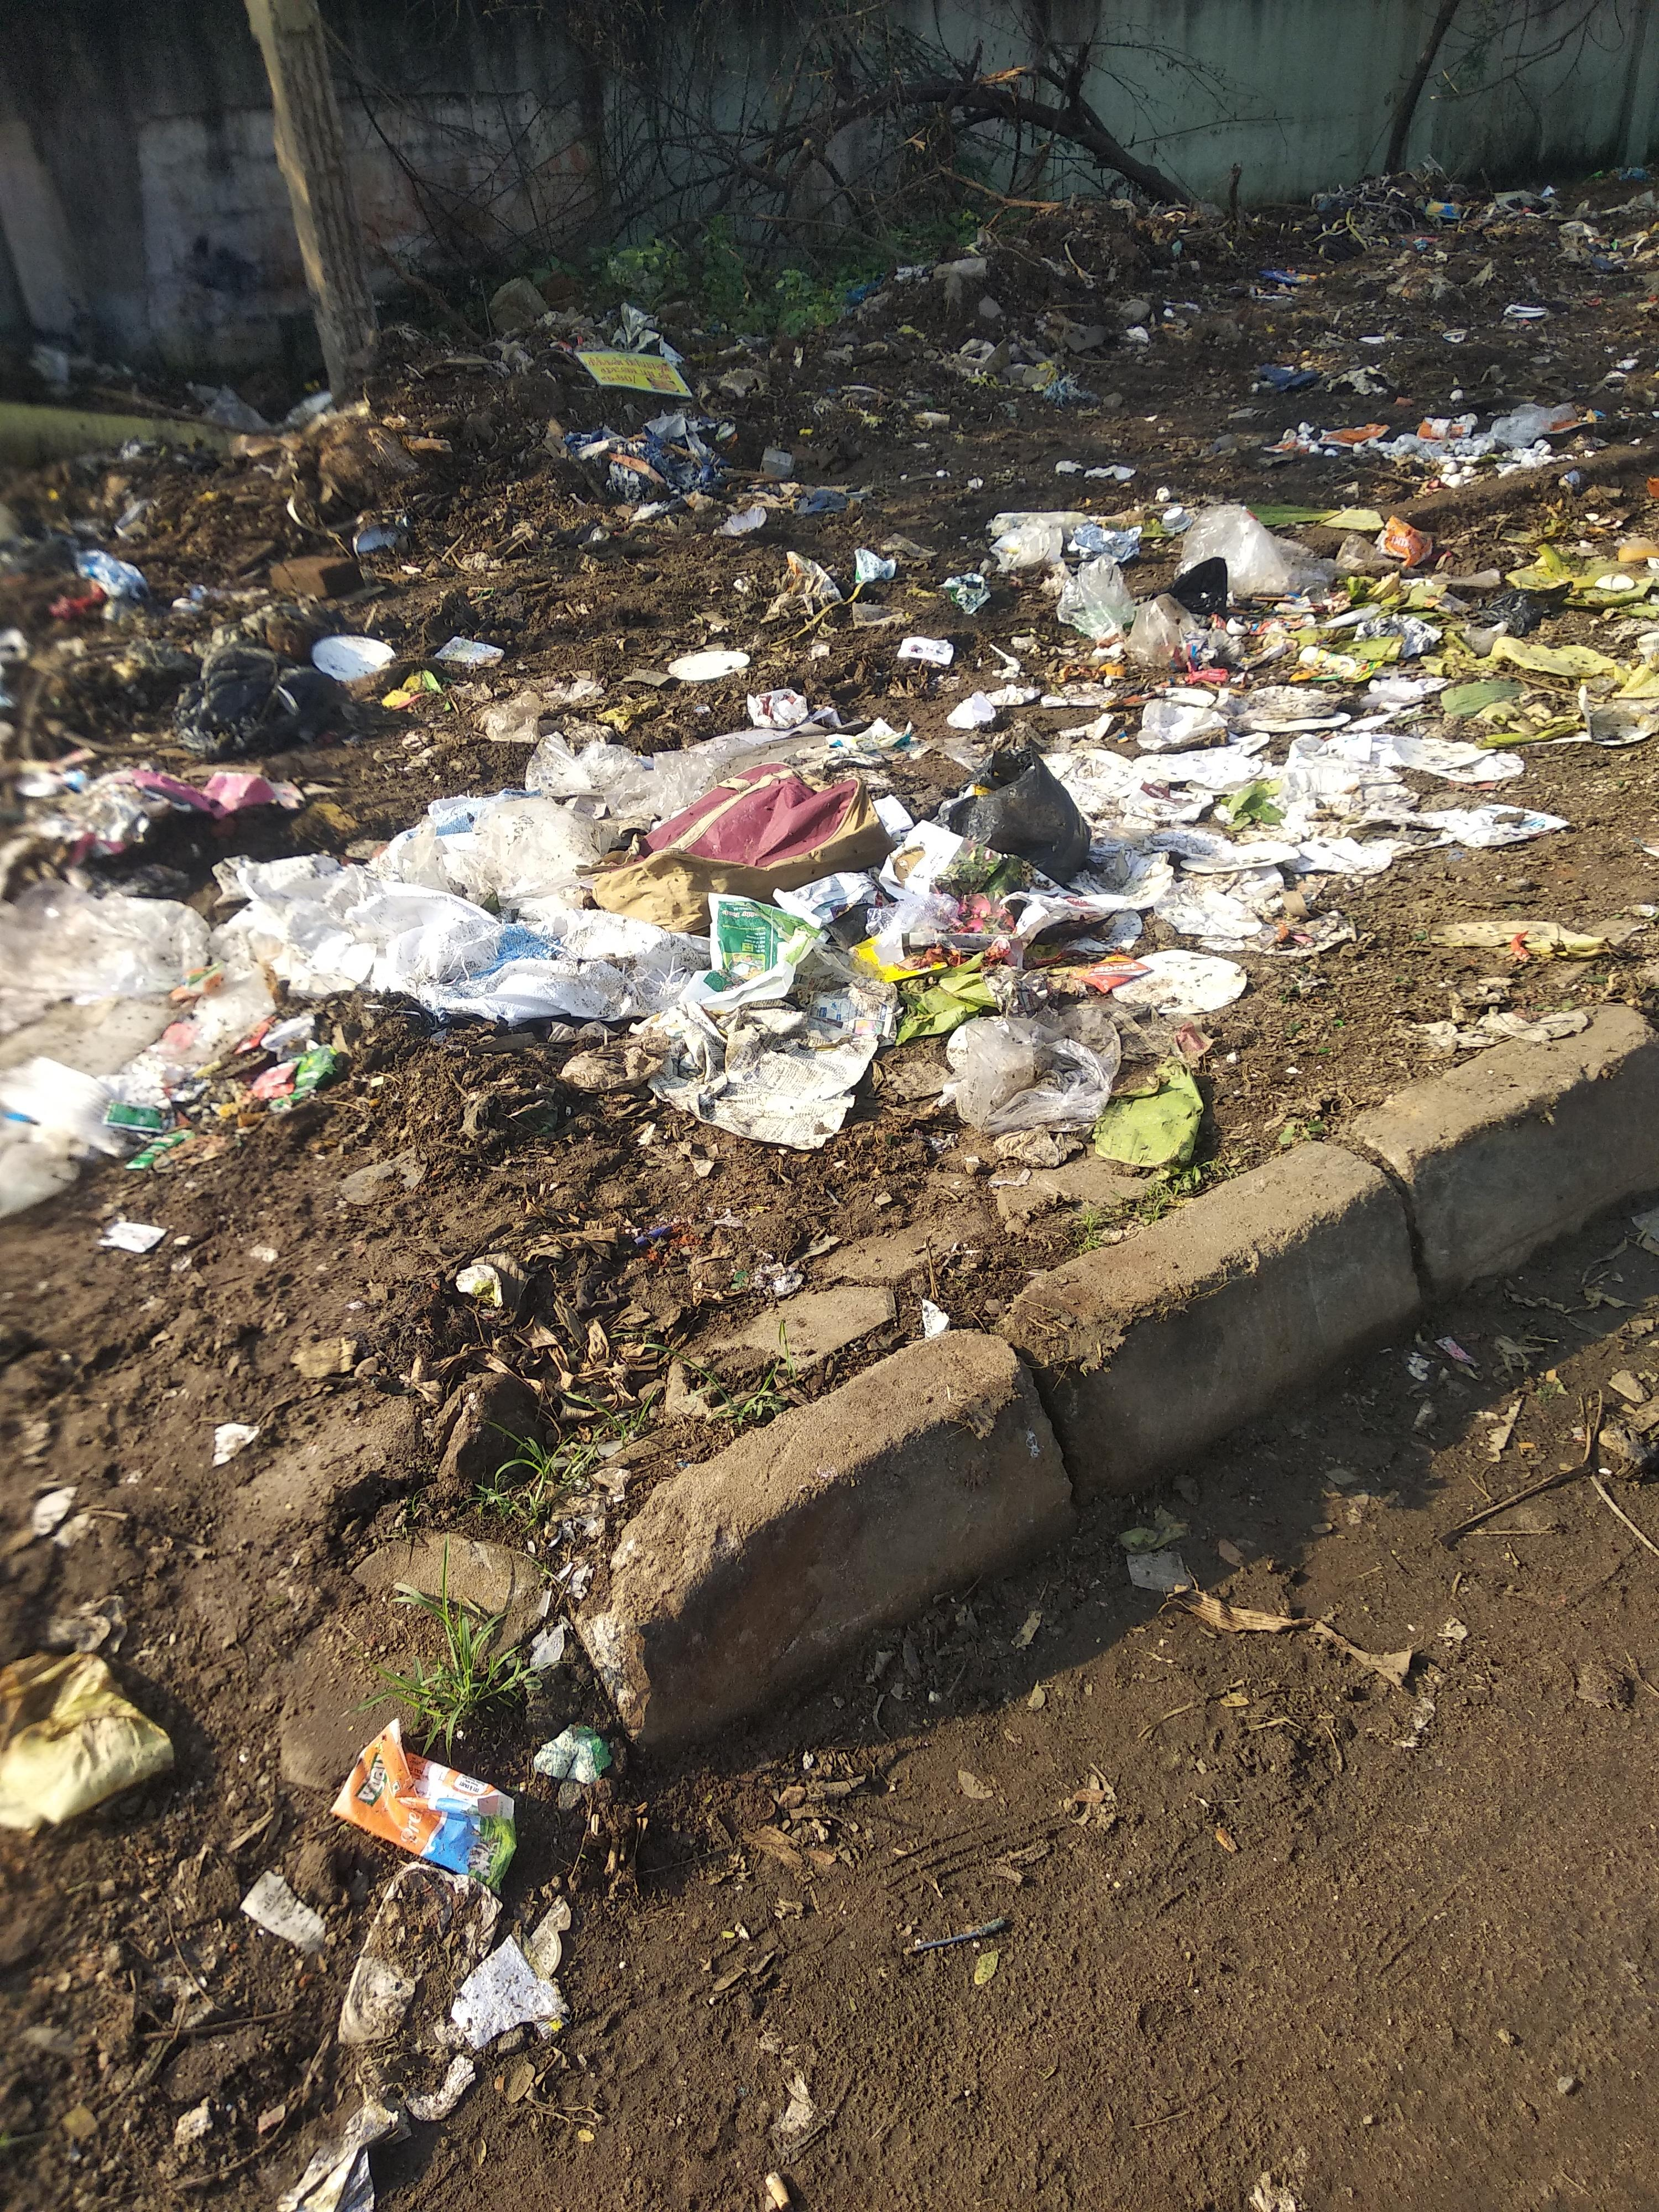organic: (0, 343, 1659, 1179)
